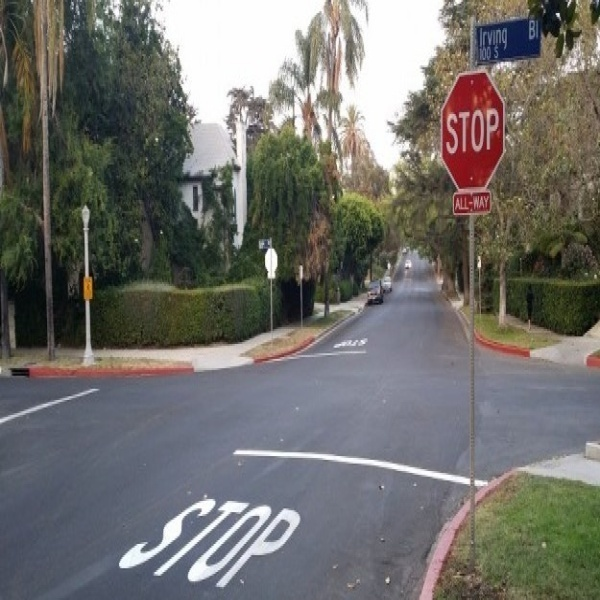stop: (436, 72, 508, 195)
